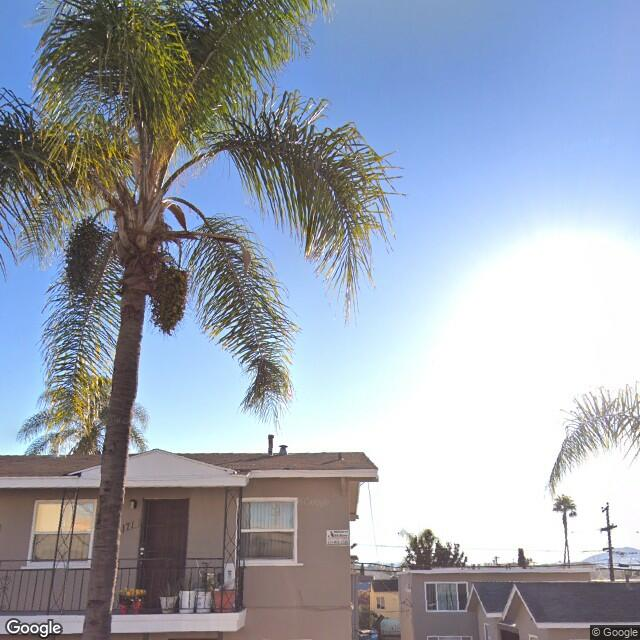window: (240, 497, 301, 568), (32, 493, 92, 565), (421, 579, 469, 616)
